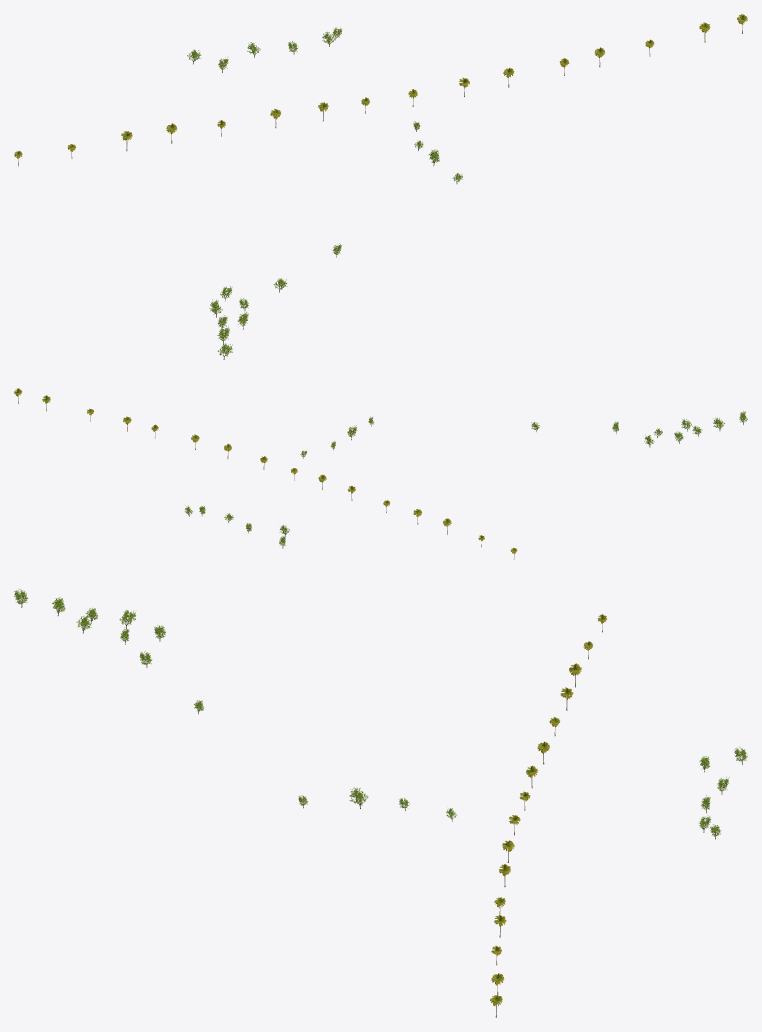
File: Al_Jaddaf_mini_env.glb
The picture shows the model from 3 angles, top to bottom: view 1: azimuth 30°, elevation 25°; view 2: azimuth 150°, elevation 25°; view 3: azimuth 270°, elevation 25°; orthographic projection. The views are drawn at different scales.
Parts seen in each view (by area): view 1: plants_location; view 2: plants_location; view 3: plants_location.
Boxes of the visible parts, box(x1,y1,x2,y2) form: plants_location: box(14, 14, 747, 359); plants_location: box(14, 388, 747, 559); plants_location: box(14, 589, 747, 1017).
Bounding box in the file's own units: 496 × 13.23 × 370.
4 materials, 4 textured.
